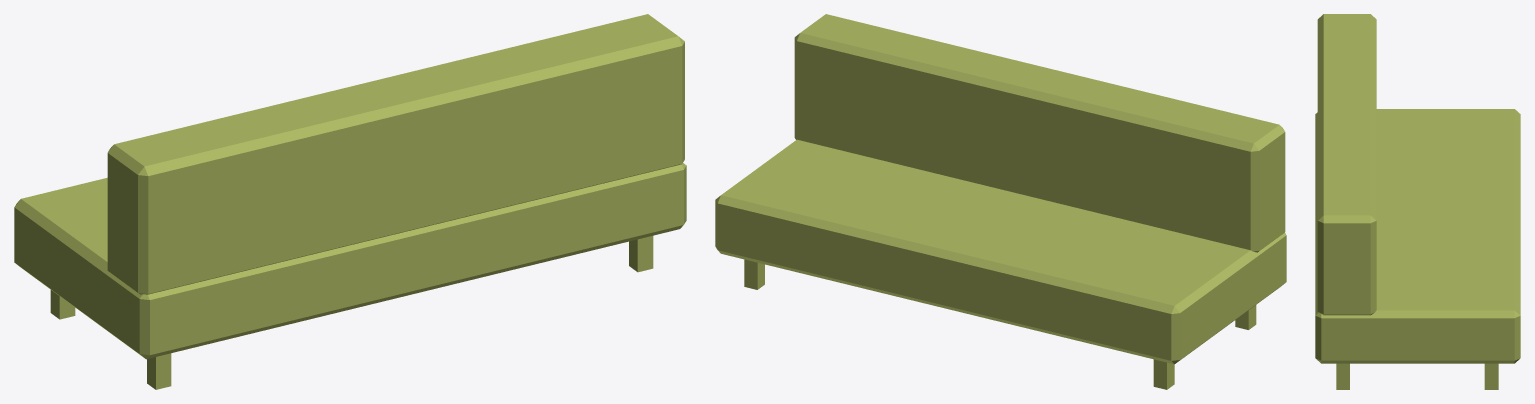
The model's file is novakfi19_Gauc2Lidi.fbx.
The picture shows the model from 3 angles, left to right: view 1: azimuth 30°, elevation 25°; view 2: azimuth 150°, elevation 25°; view 3: azimuth 270°, elevation 25°; orthographic projection. The views are drawn at different scales.
Parts seen in each view (by area): view 1: pCube7, pCube6, pCube8, pCube11; view 2: pCube6, pCube7, pCube10, pCube9; view 3: pCube6, pCube7, pCube9, pCube8.
Part boxes in pixels (left/top/right/bottom): pCube7: left=107, top=14, right=684, bottom=294; pCube6: left=14, top=163, right=686, bottom=359; pCube8: left=629, top=236, right=653, bottom=272; pCube11: left=147, top=353, right=171, bottom=389; pCube6: left=715, top=139, right=1286, bottom=364; pCube7: left=794, top=14, right=1285, bottom=252; pCube10: left=1153, top=359, right=1174, bottom=389; pCube9: left=744, top=259, right=764, bottom=289; pCube6: left=1315, top=109, right=1520, bottom=363; pCube7: left=1317, top=14, right=1376, bottom=315; pCube9: left=1484, top=363, right=1498, bottom=389; pCube8: left=1336, top=363, right=1349, bottom=389.
Bounding box in the file's own units: 2.38 × 0.9727 × 1.
